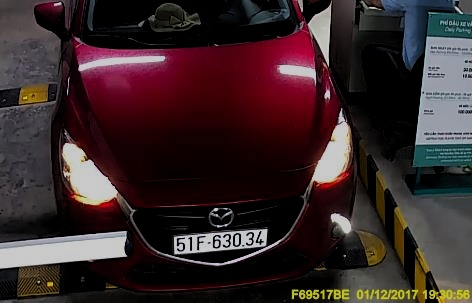plate: (173, 229, 267, 253)
